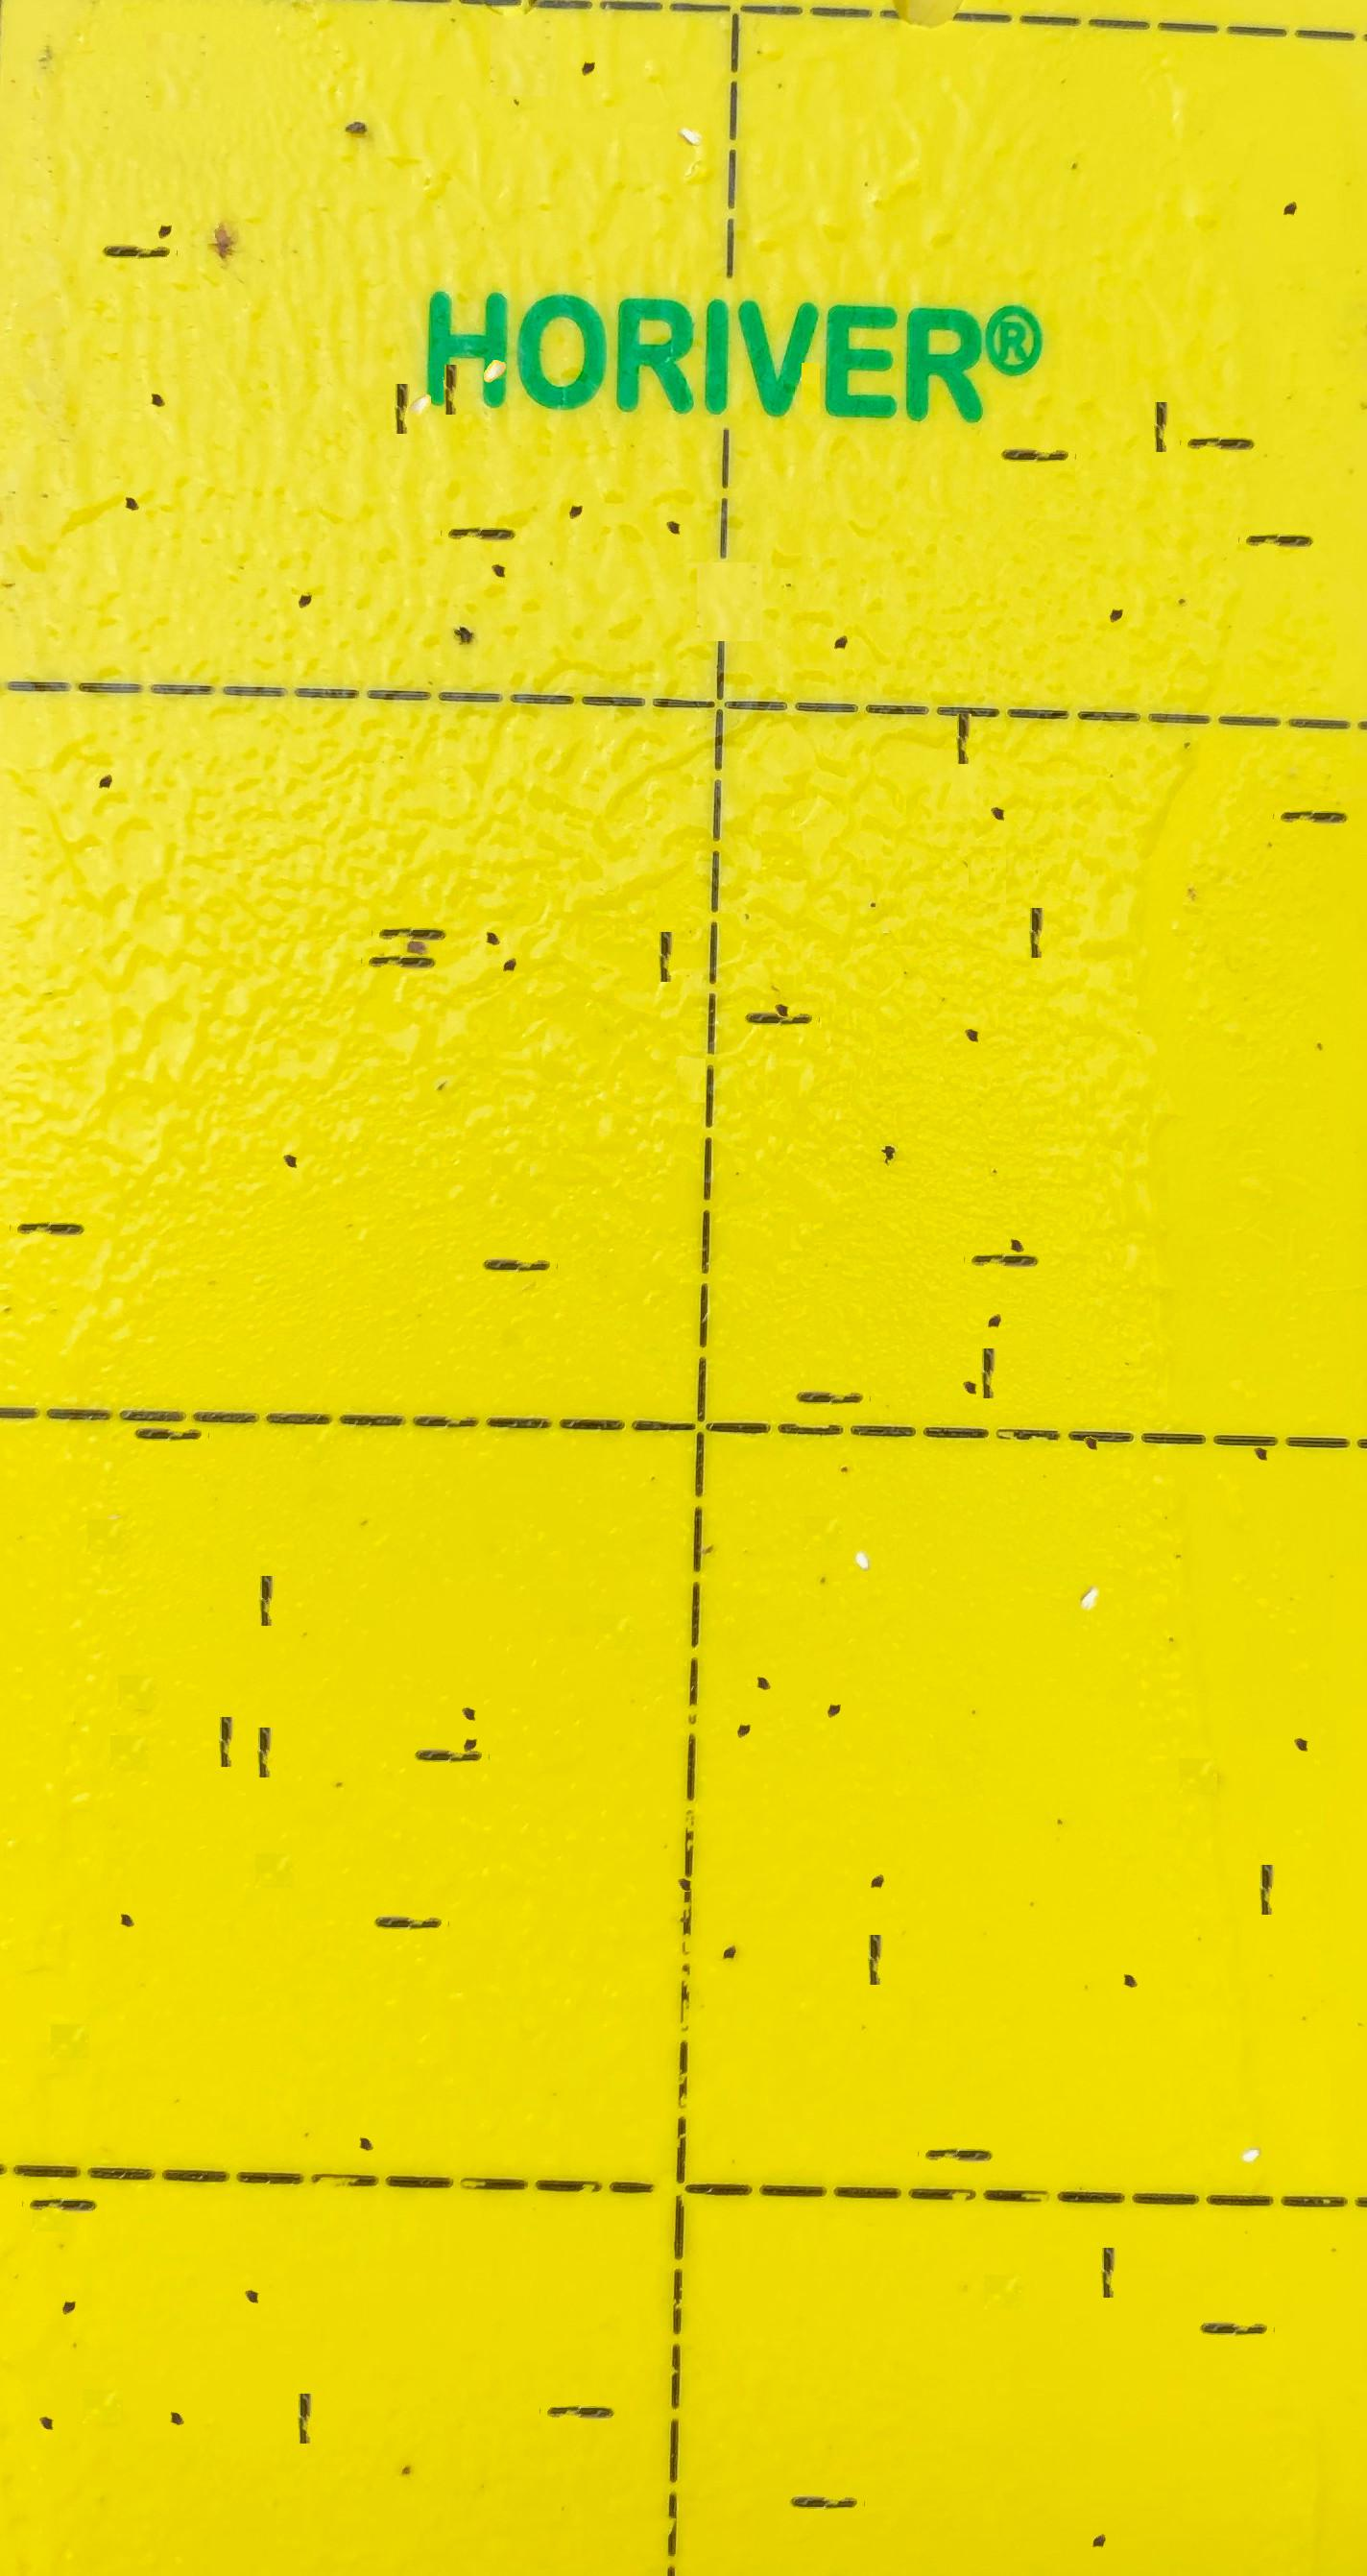white_fly: (1229, 2082, 1272, 2131), (842, 1487, 885, 1535), (1070, 1533, 1113, 1579), (672, 66, 714, 112), (474, 305, 516, 348), (399, 342, 441, 385)
